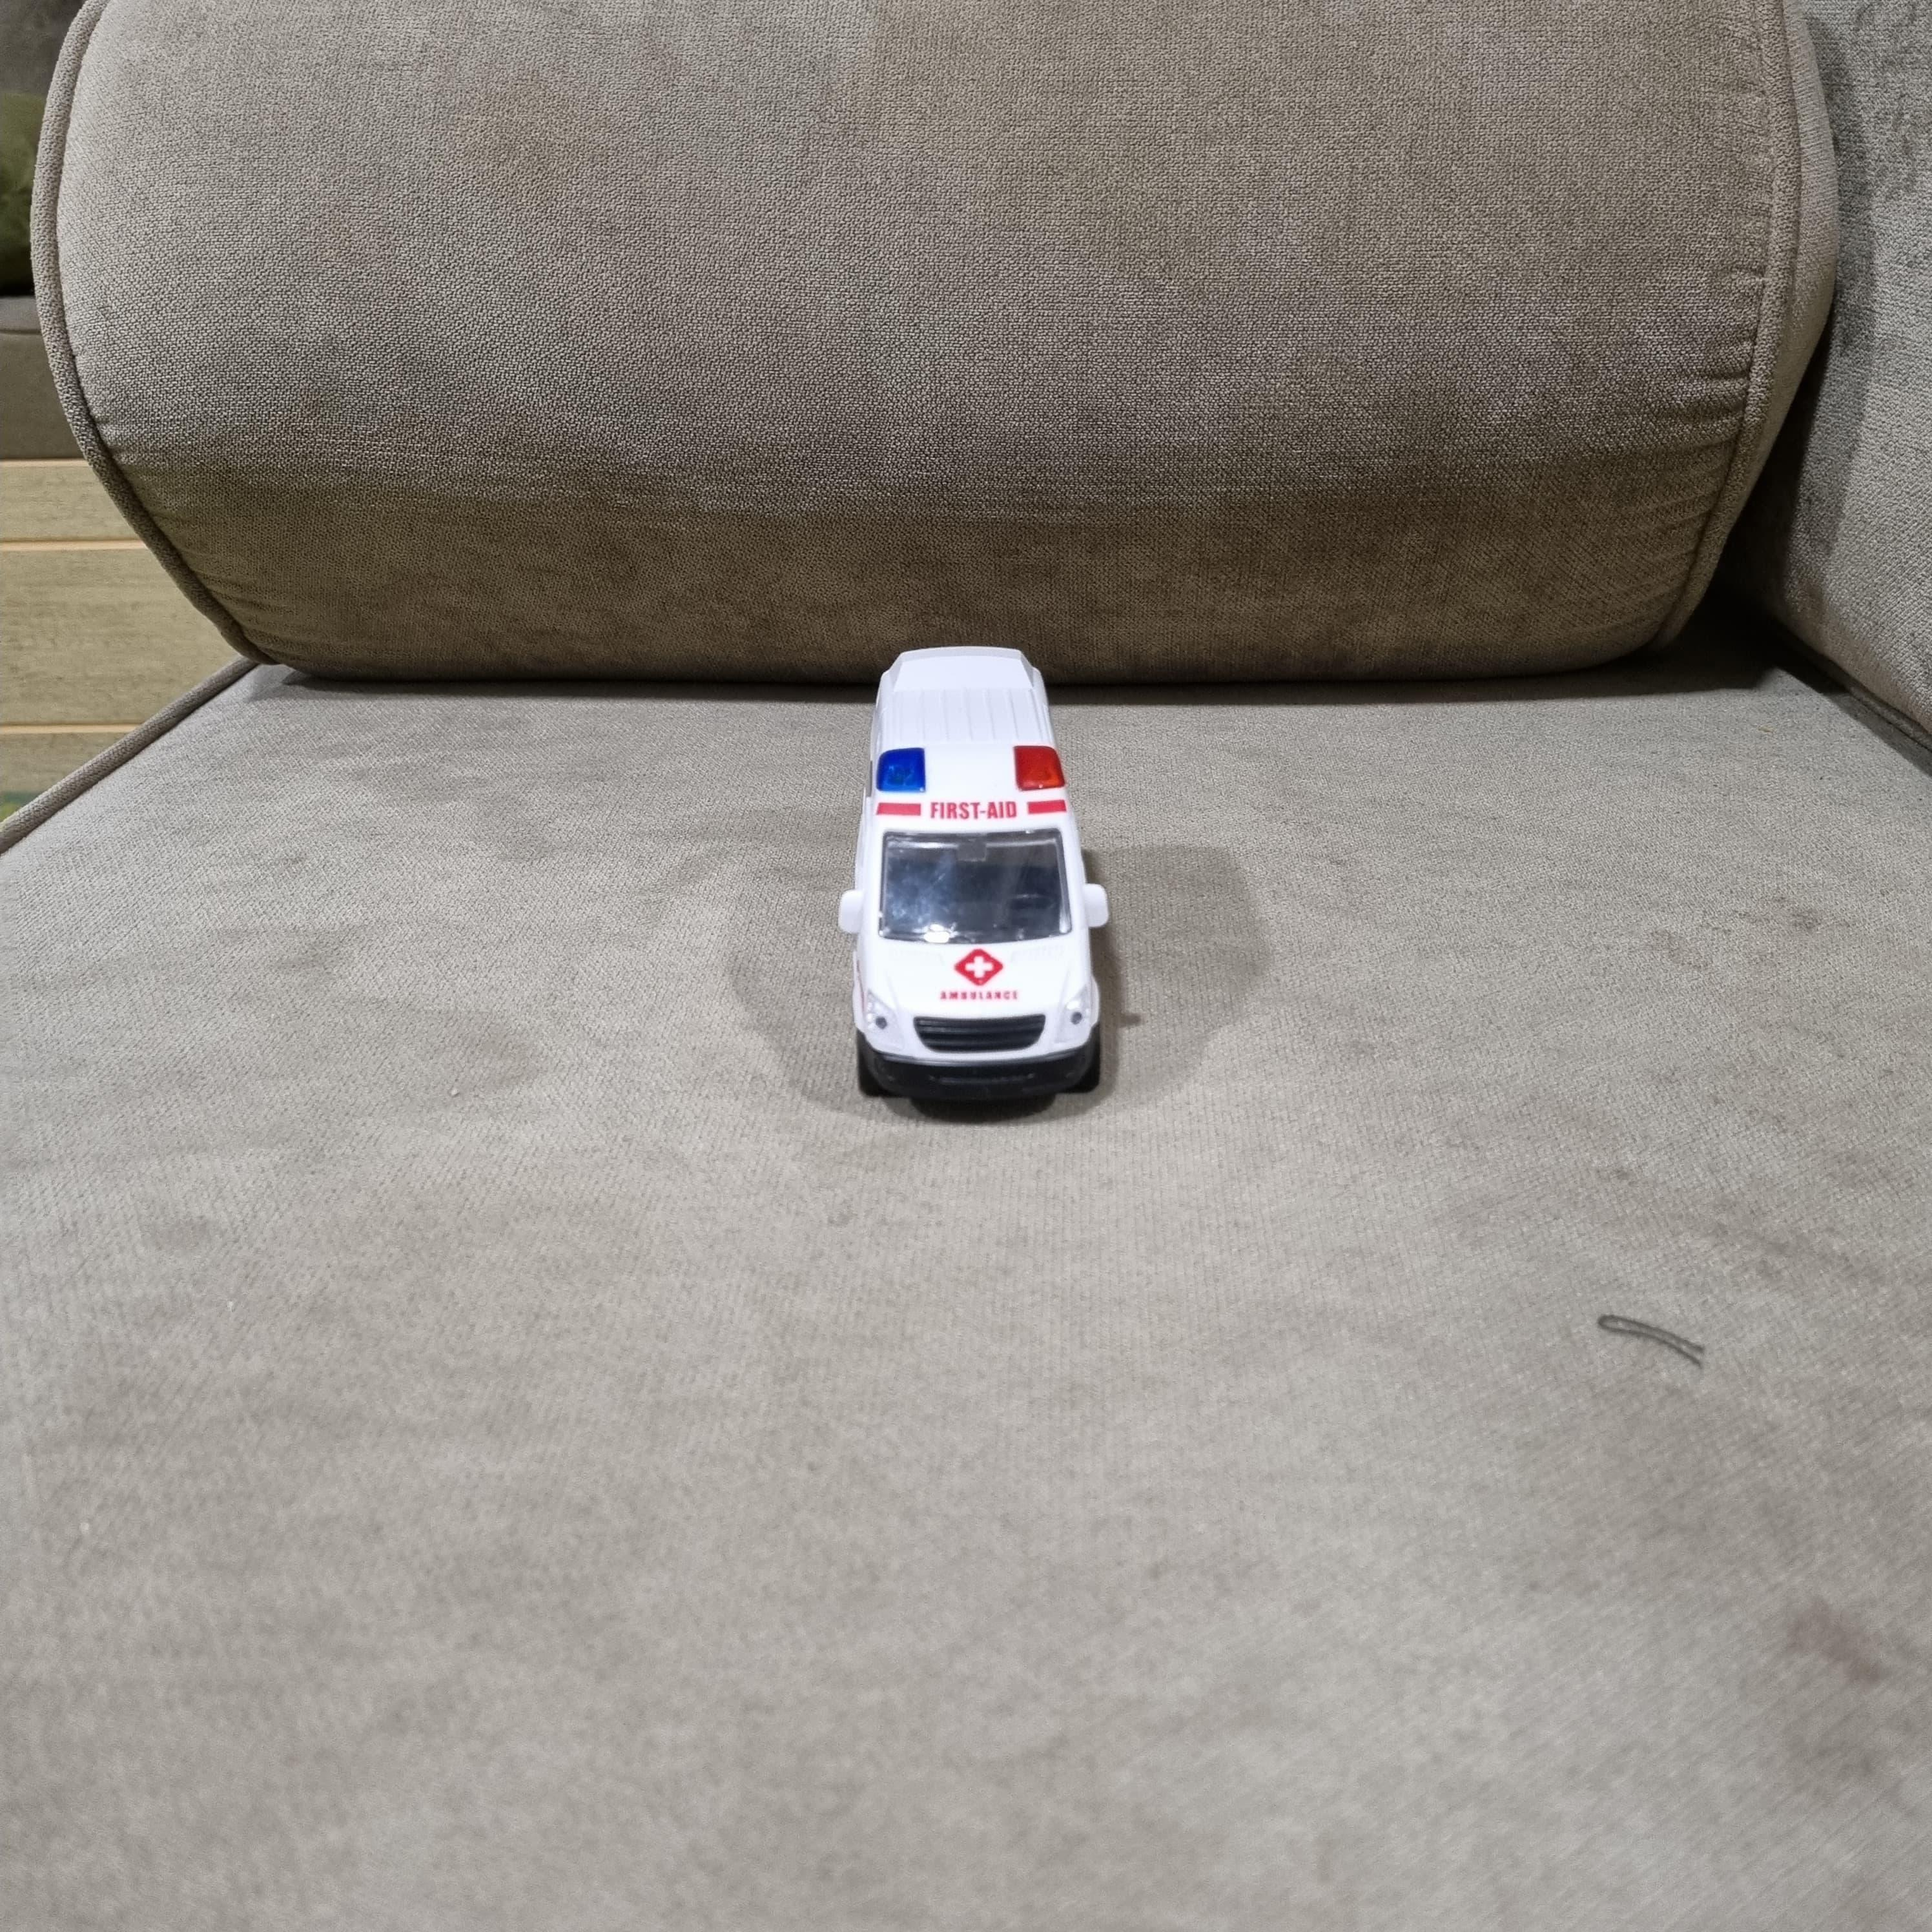ambulance_off: (839, 644, 1109, 1100)
